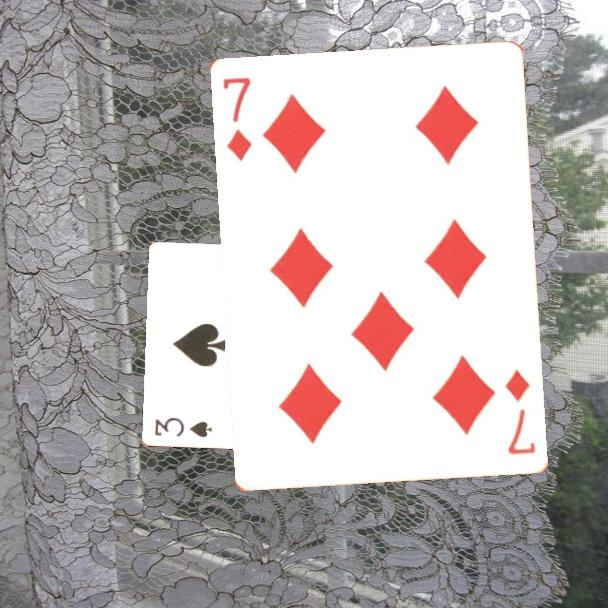d07: (502, 367, 539, 458), (220, 74, 255, 165)
s03: (151, 414, 215, 440)
